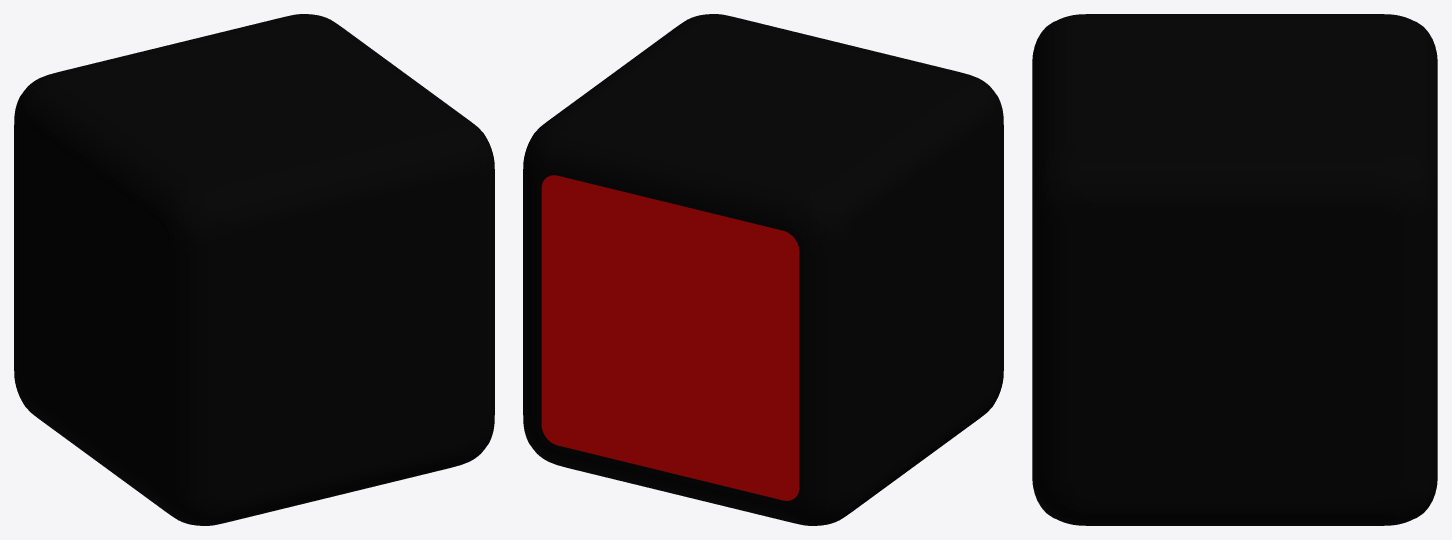
3 renders of one model, left to right at view 1: azimuth 30°, elevation 25°; view 2: azimuth 150°, elevation 25°; view 3: azimuth 270°, elevation 25°, orthographic. The views are drawn at different scales.
Visible parts, largest first — view 1: ry; view 2: ry; view 3: ry.
Boxes of the visible parts, x1=… form: ry: x1=14, y1=14, x2=494, y2=525; ry: x1=523, y1=14, x2=1003, y2=525; ry: x1=1032, y1=14, x2=1437, y2=525.
Size of the model in its own units: 100 by 100 by 100.
